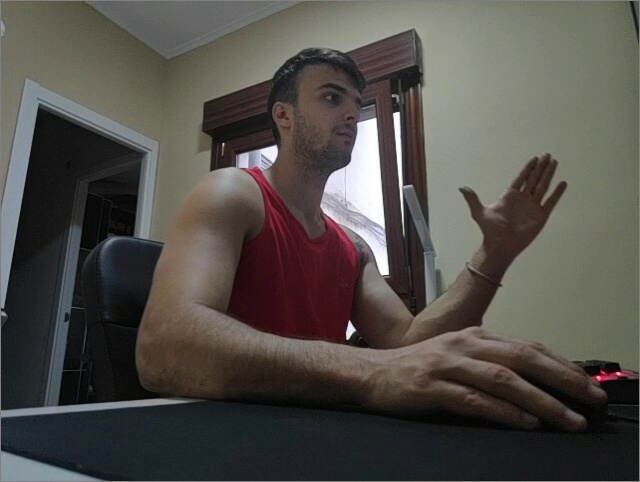Palm: (456, 149, 569, 255)
